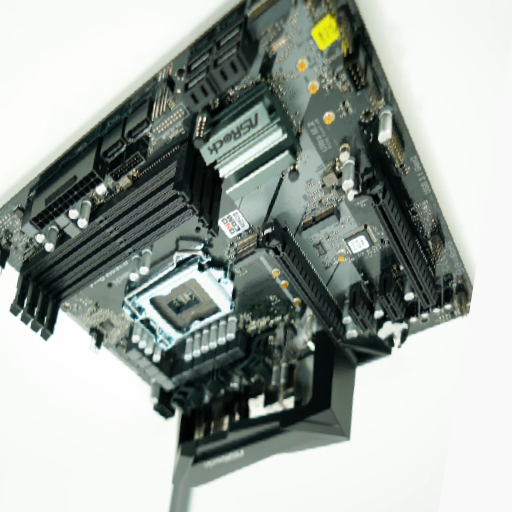CPU: (120, 244, 236, 354)
GPU: (354, 181, 439, 308), (256, 228, 346, 344)
MOTHERBOARD: (1, 1, 472, 424)
RAM: (9, 142, 222, 344)
SSD: (300, 209, 341, 242), (233, 236, 264, 270)
